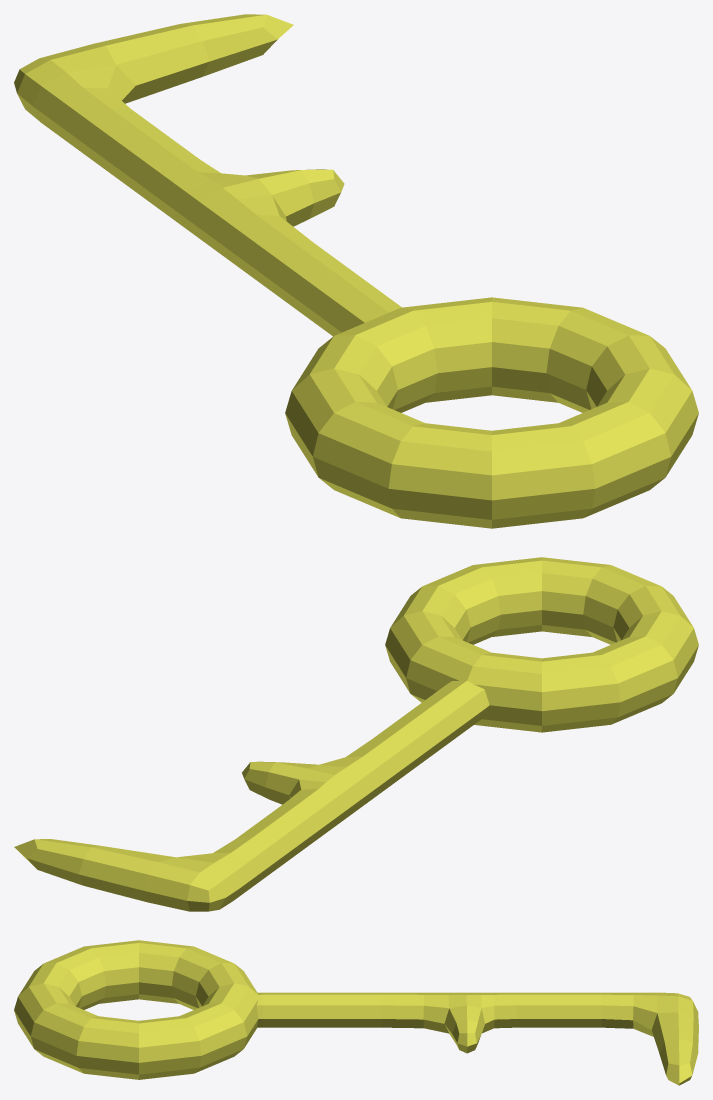
Rendered from llave.fbx.
3 renders of one model, top to bottom at view 1: azimuth 30°, elevation 25°; view 2: azimuth 150°, elevation 25°; view 3: azimuth 270°, elevation 25°, orthographic. The views are drawn at different scales.
Visible parts, largest first — view 1: Cube.001; view 2: Cube.001; view 3: Cube.001.
Boxes of the visible parts, box(x1,y1,x2,y2) form: Cube.001: box(14, 14, 698, 528); Cube.001: box(14, 557, 698, 911); Cube.001: box(14, 940, 698, 1085).
Size of the model in its own units: 0.5573 by 0.1107 by 1.28.
